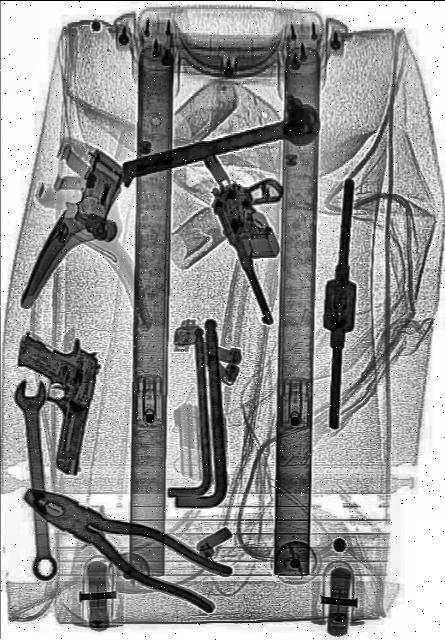Gun: (208, 150, 322, 328), (0, 318, 100, 476)
Pliers: (16, 464, 234, 620)
Wrench: (14, 374, 62, 582)
